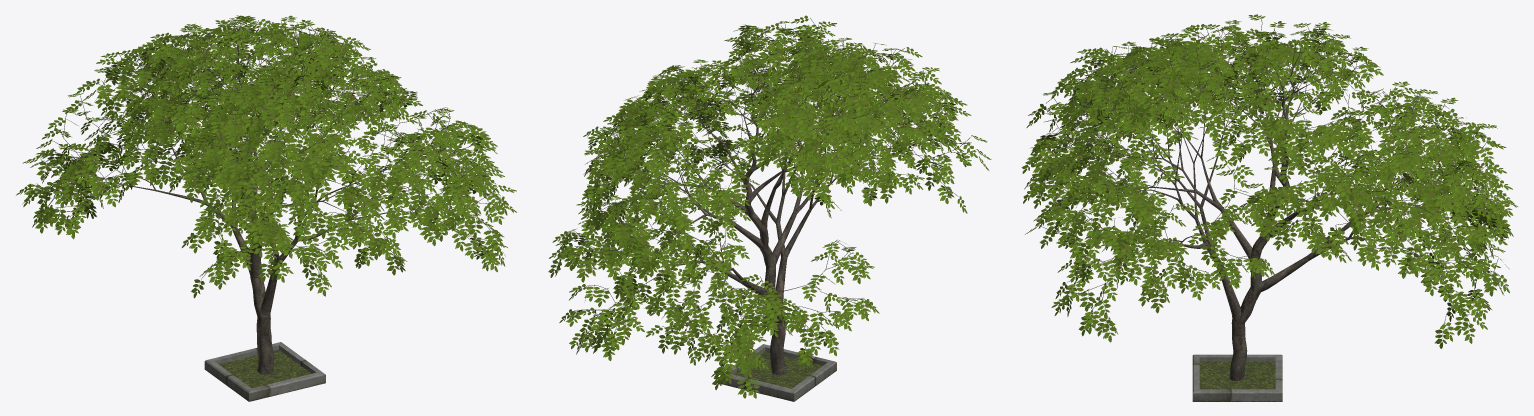
Rendered from Building_Tree_01.fbx.
3 views of the same model, side by side, from view 1: azimuth 30°, elevation 25°; view 2: azimuth 150°, elevation 25°; view 3: azimuth 270°, elevation 25° (orthographic). The views are drawn at different scales.
Visible parts, largest first — view 1: Building_Tree_01_LOD0; view 2: Building_Tree_01_LOD0; view 3: Building_Tree_01_LOD0.
Part boxes in pixels (x1,y1,x2,y2): Building_Tree_01_LOD0: (16,15,516,401); Building_Tree_01_LOD0: (548,15,991,401); Building_Tree_01_LOD0: (1021,14,1517,401).
Size of what is drawn, in the model's own units: 853 by 770 by 1013.
